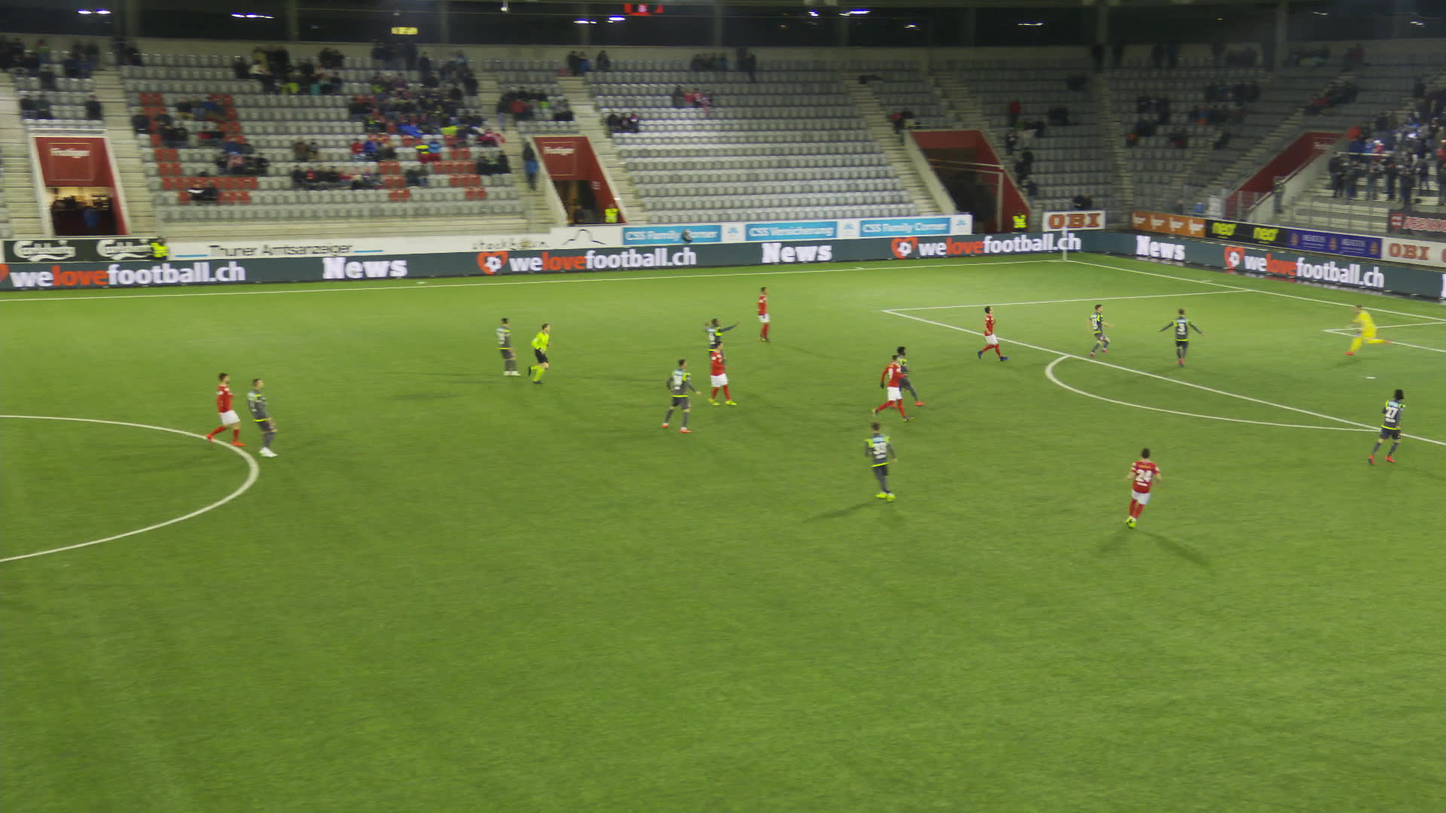ball: (1181, 343, 1191, 351)
player: (208, 372, 249, 445), (1126, 448, 1164, 526), (868, 422, 905, 499), (246, 379, 283, 455), (667, 356, 704, 431), (1374, 391, 1410, 464), (1164, 309, 1208, 366), (875, 355, 909, 420), (1350, 297, 1388, 353), (709, 318, 740, 379), (895, 342, 923, 403), (713, 342, 737, 404), (1085, 304, 1114, 355), (980, 307, 1005, 361), (502, 318, 523, 374), (761, 288, 777, 342)
referee: (531, 323, 557, 380)
